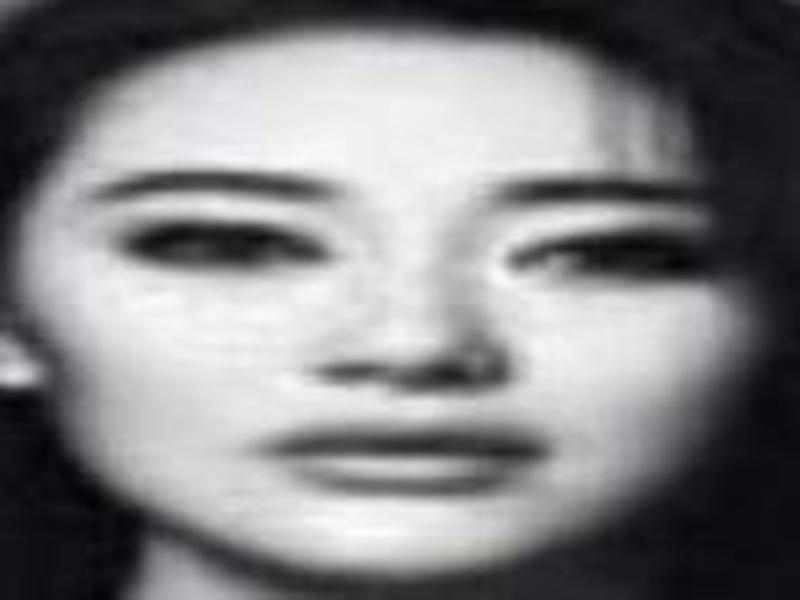without_mask: (42, 48, 755, 580)
